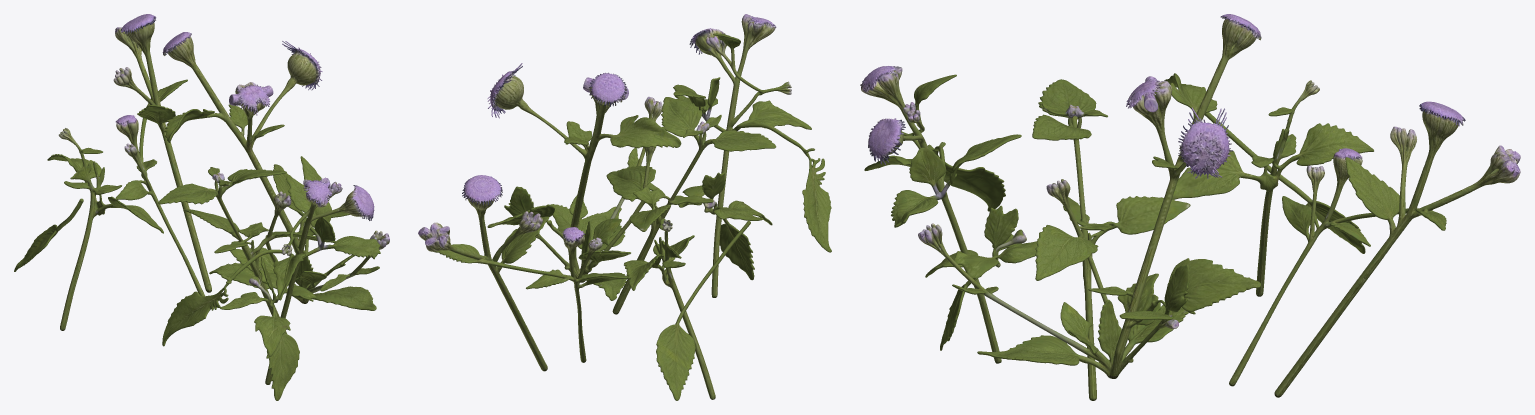
File: ageratum.fbx
The picture shows the model from 3 angles, left to right: view 1: azimuth 30°, elevation 25°; view 2: azimuth 150°, elevation 25°; view 3: azimuth 270°, elevation 25°; orthographic projection. The views are drawn at different scales.
Visible parts, largest first — view 1: tripo_node_6e3340e6; view 2: tripo_node_6e3340e6; view 3: tripo_node_6e3340e6.
Part boxes in pixels (x1,y1,x2,y2): tripo_node_6e3340e6: [14, 14, 389, 400]; tripo_node_6e3340e6: [418, 14, 831, 400]; tripo_node_6e3340e6: [860, 14, 1520, 400].
Bounding box in the file's own units: 0.5432 × 0.584 × 0.9811.
